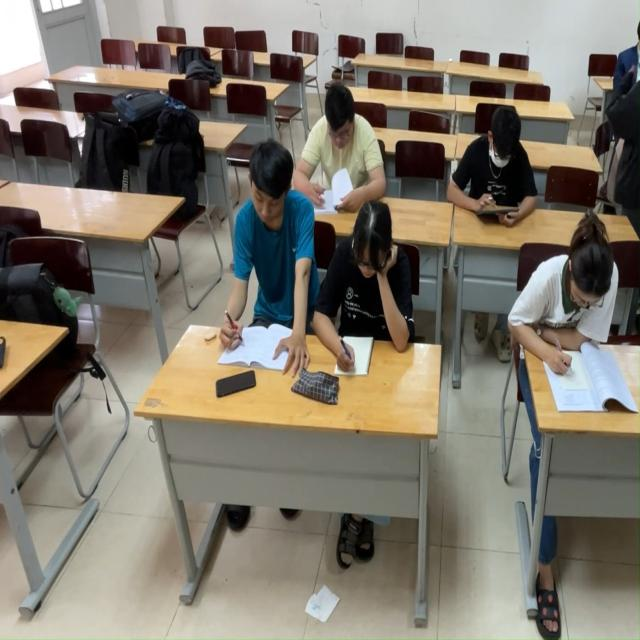read: (504, 213, 640, 430), (210, 135, 317, 380), (315, 203, 417, 394), (447, 103, 553, 236), (292, 82, 391, 207)
